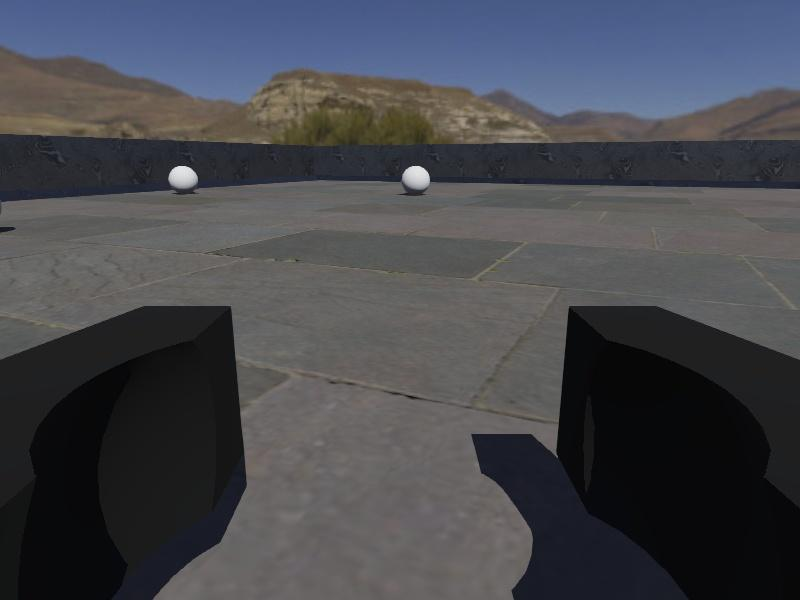white ball: (168, 164, 199, 193), (401, 165, 432, 194)
